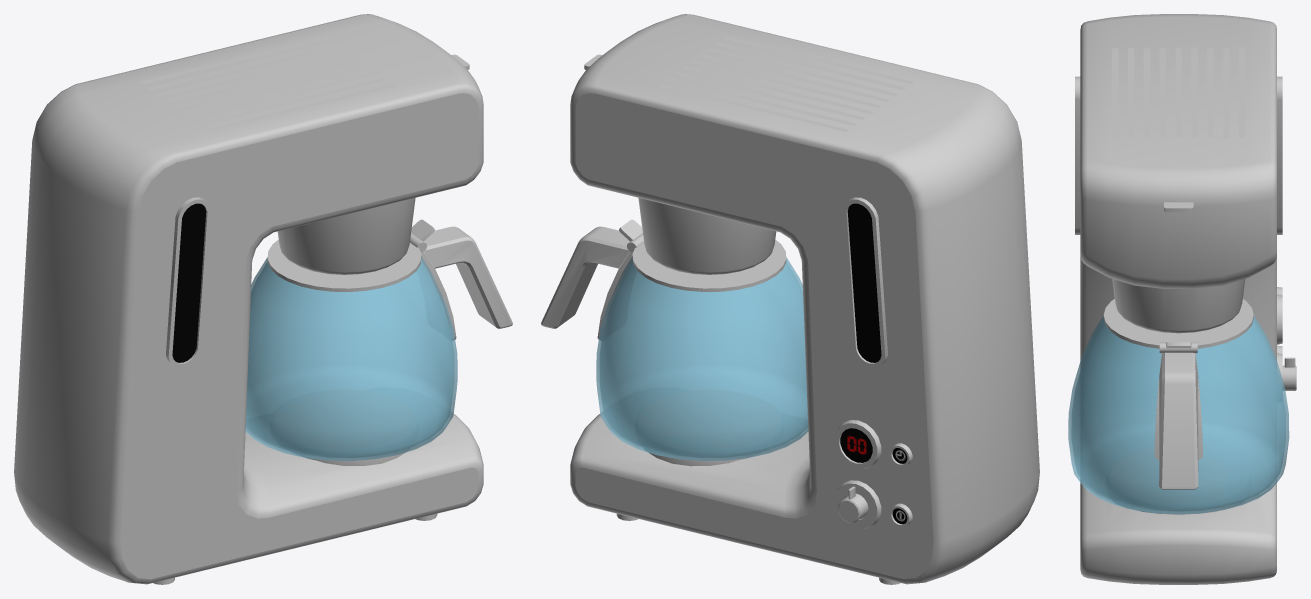
File: Coffee_Maker_01.FBX
3 views of the same model, side by side, from view 1: azimuth 30°, elevation 25°; view 2: azimuth 150°, elevation 25°; view 3: azimuth 270°, elevation 25° (orthographic). The views are drawn at different scales.
Visible parts, largest first — view 1: Coffee_Maker_01, Pot; view 2: Coffee_Maker_01, Pot; view 3: Coffee_Maker_01, Pot.
Part boxes in pixels (box(x1,y1,x2,y2)): Coffee_Maker_01: box(14, 14, 483, 584); Pot: box(245, 219, 512, 460); Coffee_Maker_01: box(570, 14, 1039, 584); Pot: box(541, 219, 808, 460); Coffee_Maker_01: box(1075, 14, 1296, 584); Pot: box(1068, 299, 1289, 514).
Size of the model in its own units: 0.5533 by 0.496 by 0.2451.
